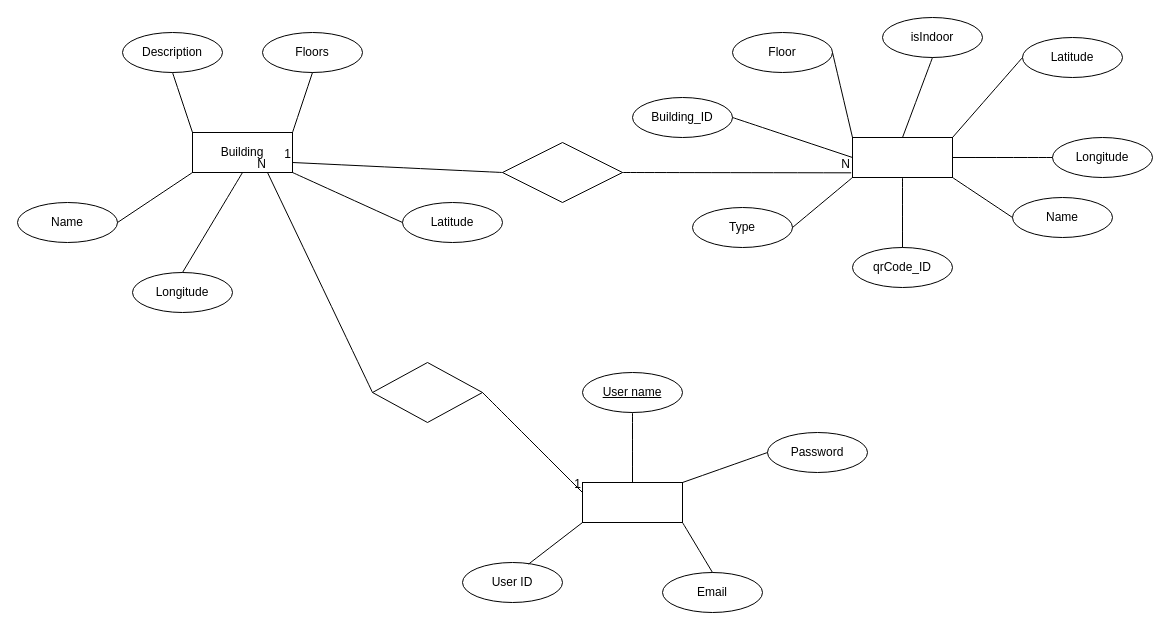
Image size: 1170x630. Some labels were removed from this diagram. Here are the shapes that lost their labels. From the top down, the centre of each, then its label:
point (562, 172): Has
point (902, 157): Pois
point (427, 392): Follows
point (632, 502): User
